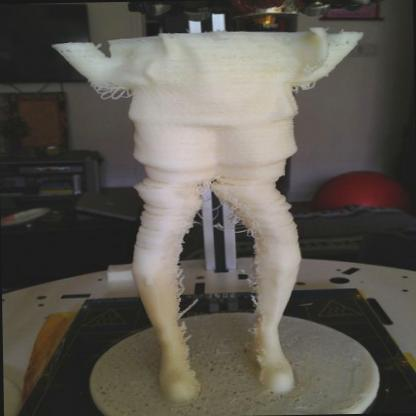fail: (244, 243, 261, 314), (219, 217, 251, 237), (95, 88, 132, 103), (182, 320, 196, 344), (179, 268, 188, 303), (248, 321, 261, 339)
